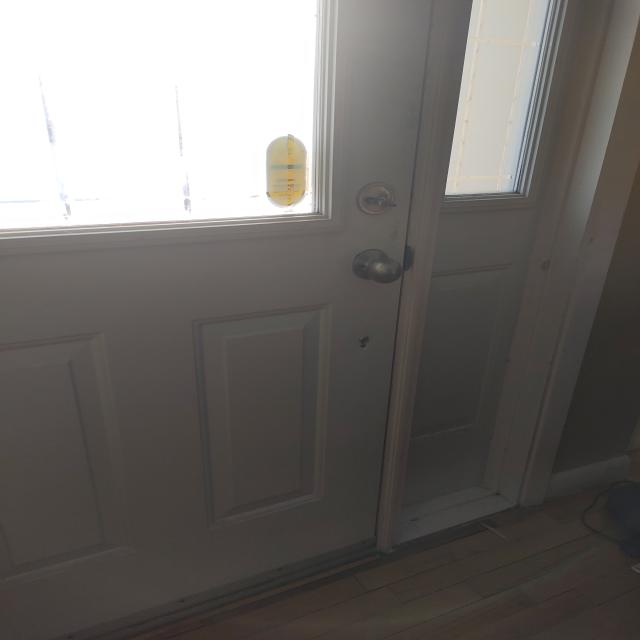door-knob: (352, 249, 403, 284)
